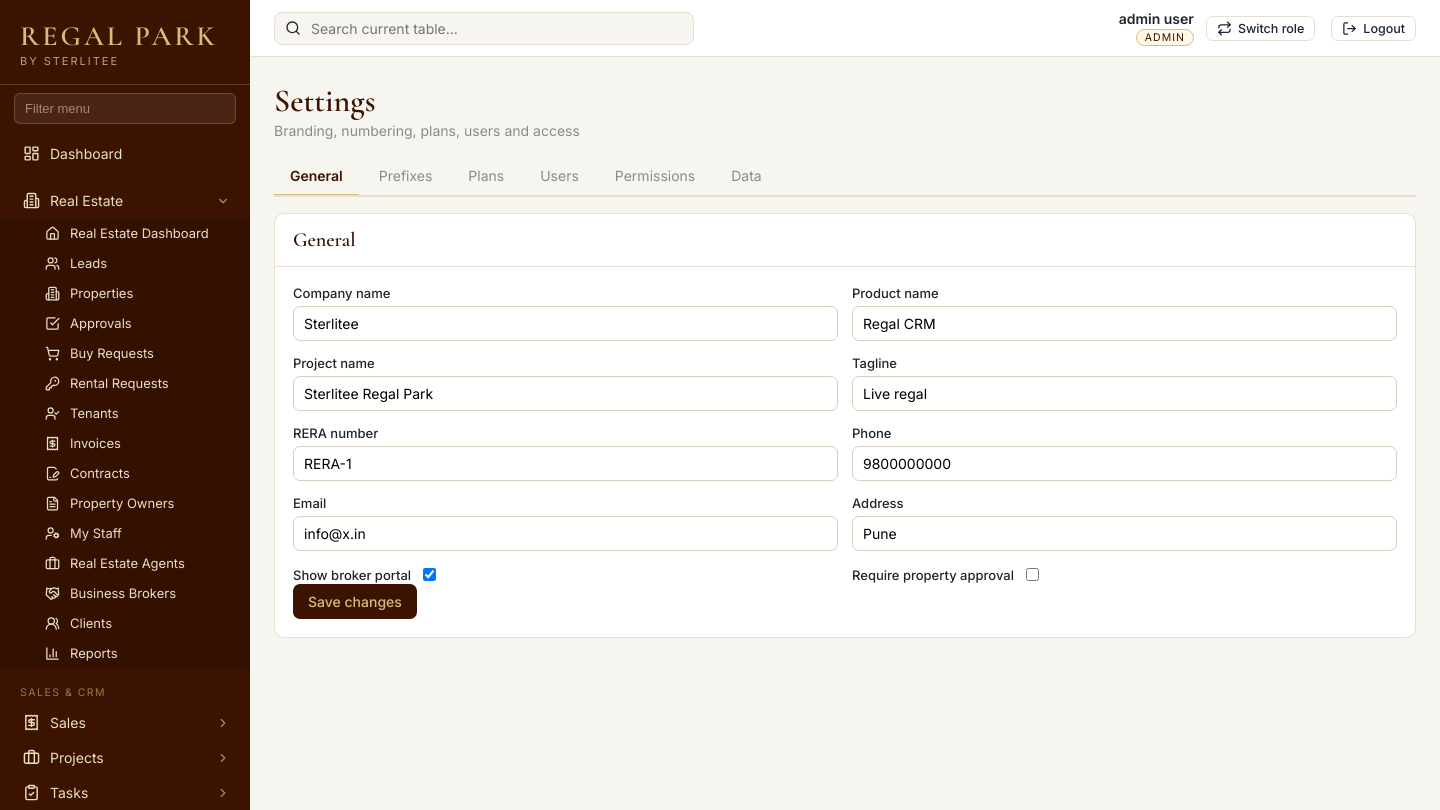
Test case: Plans tab › Add plan POSTs /plans with numeric fields
Expected: the button "Logout" is shown, 1331,16 -> 1416,40
Expected: the heading "Settings" is shown, 274,81 -> 376,120
Click the tab "Plans" at (486, 177), box 452,157 -> 520,197
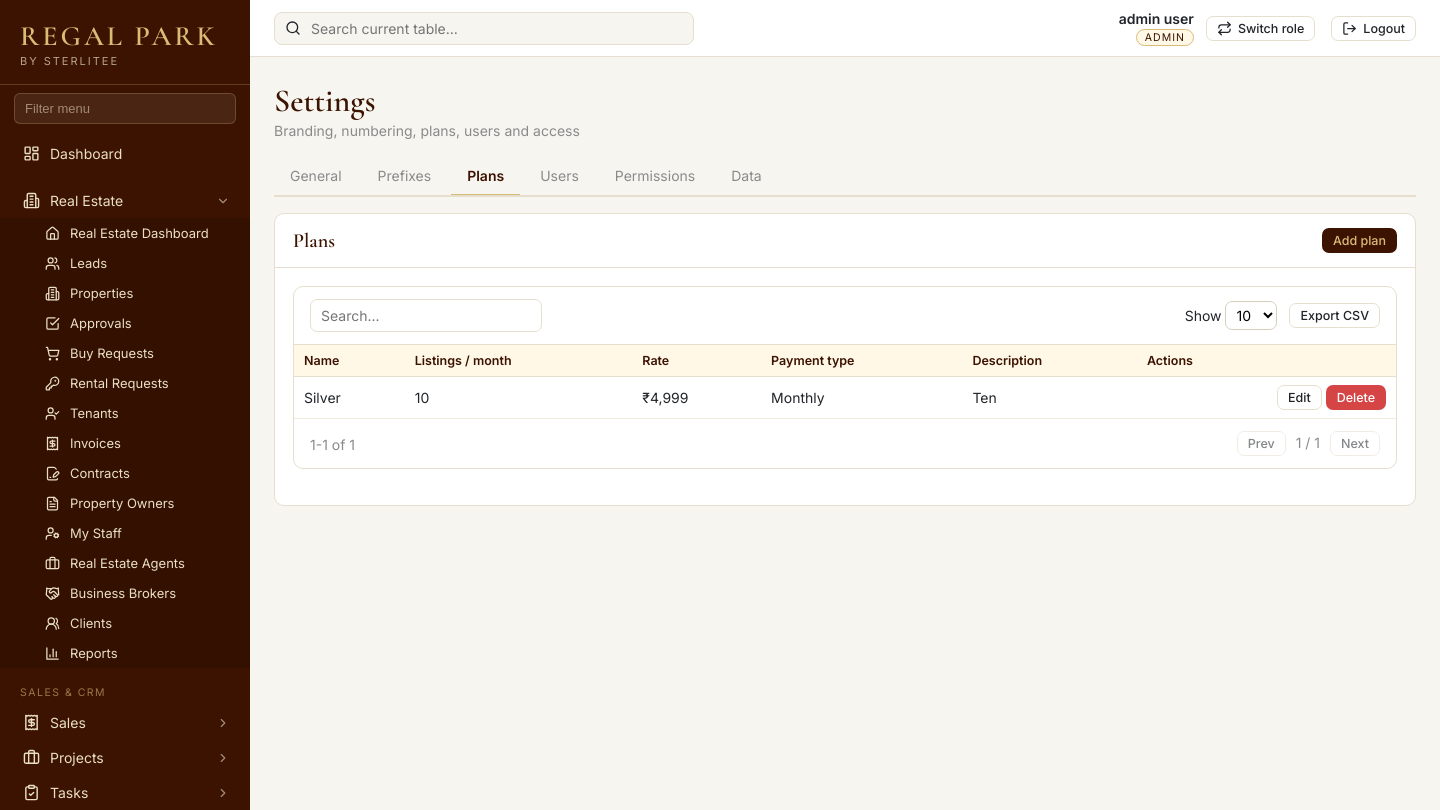
Result: the text "Silver" is shown at 294,376 -> 405,418
Click the button "Add plan" at (1359, 240), box 1322,228 -> 1397,253
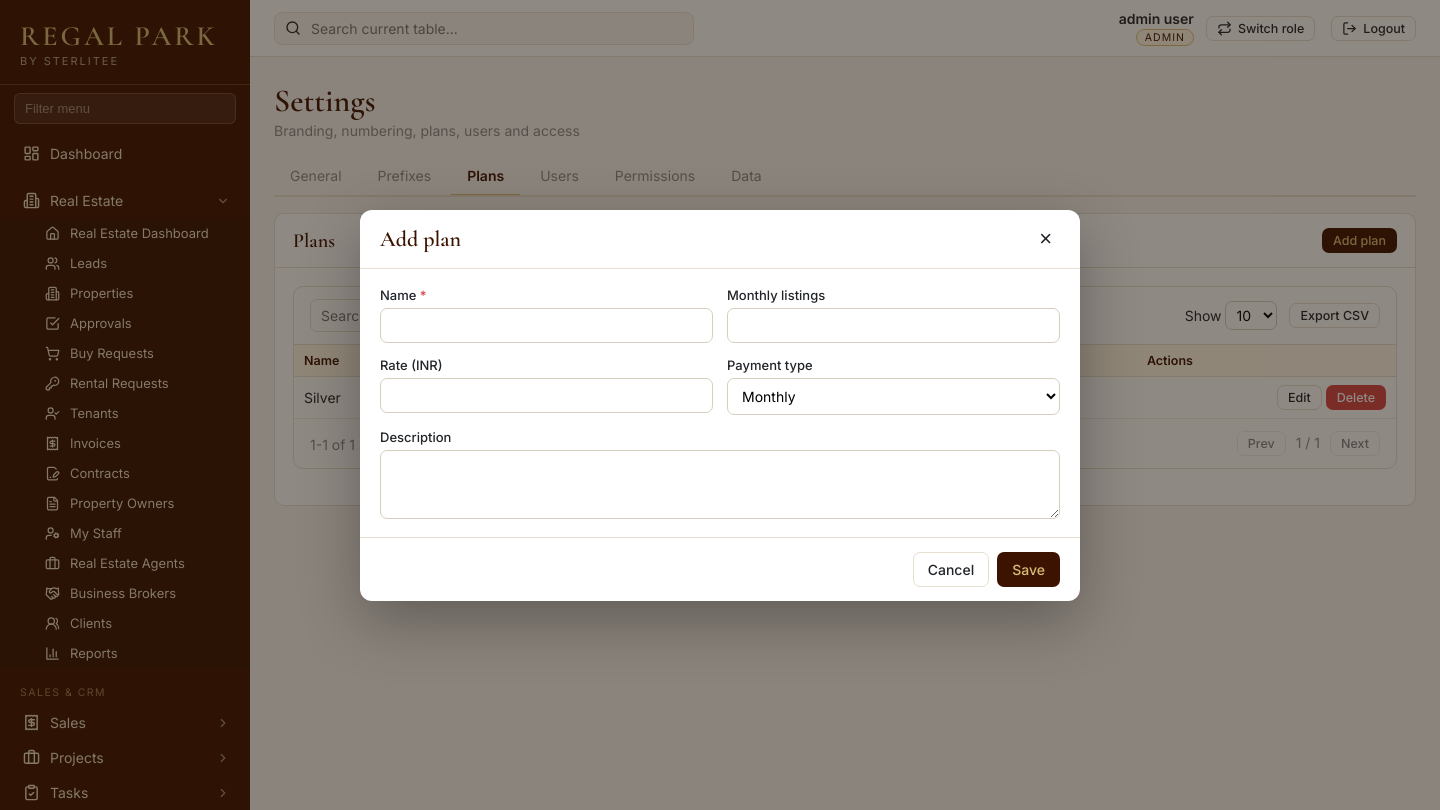
Type "Gold" into the field labelled "Name *" at (546, 325), box 380,308 -> 713,342
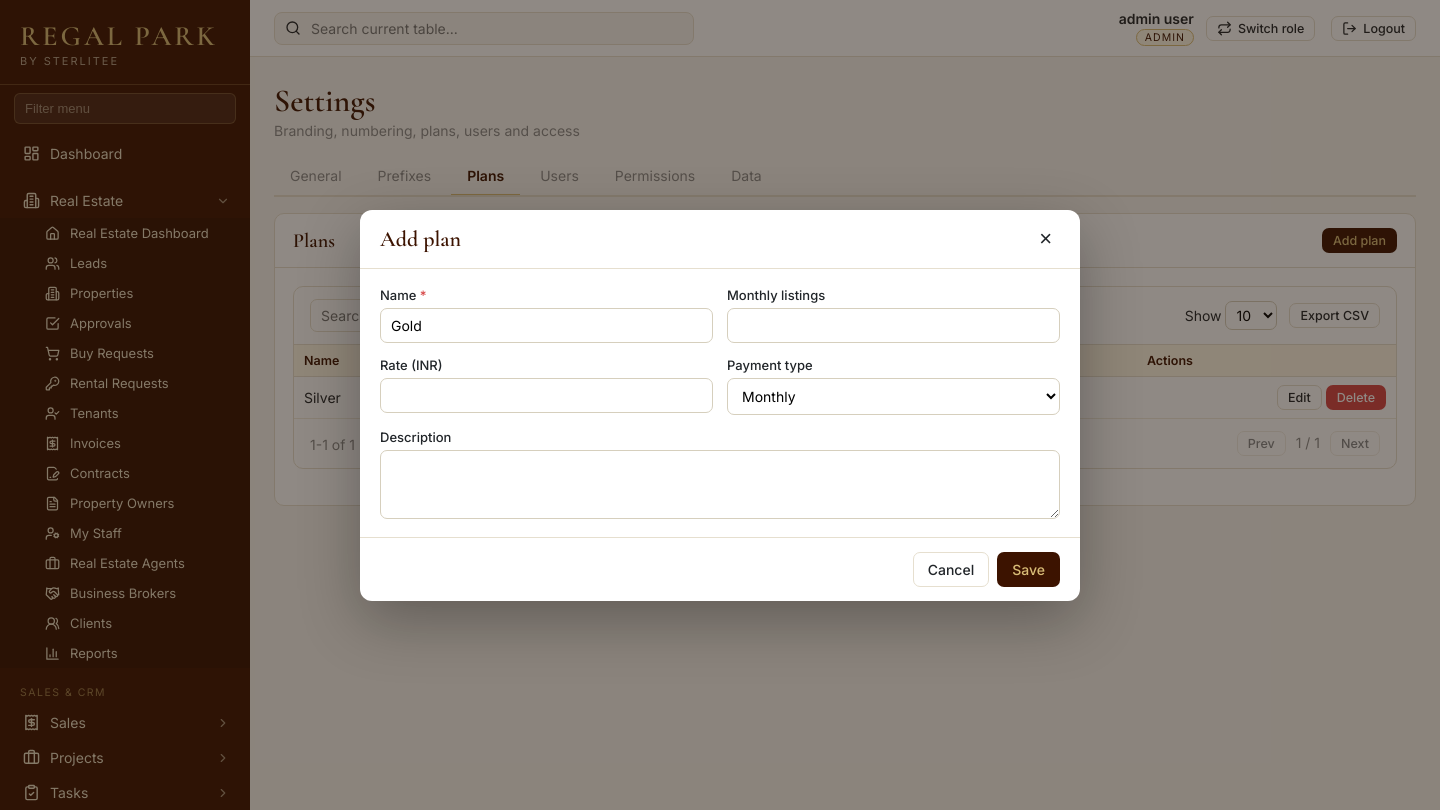
Type "25" into the number field labelled "Monthly listings" at (894, 325), box 727,308 -> 1060,342
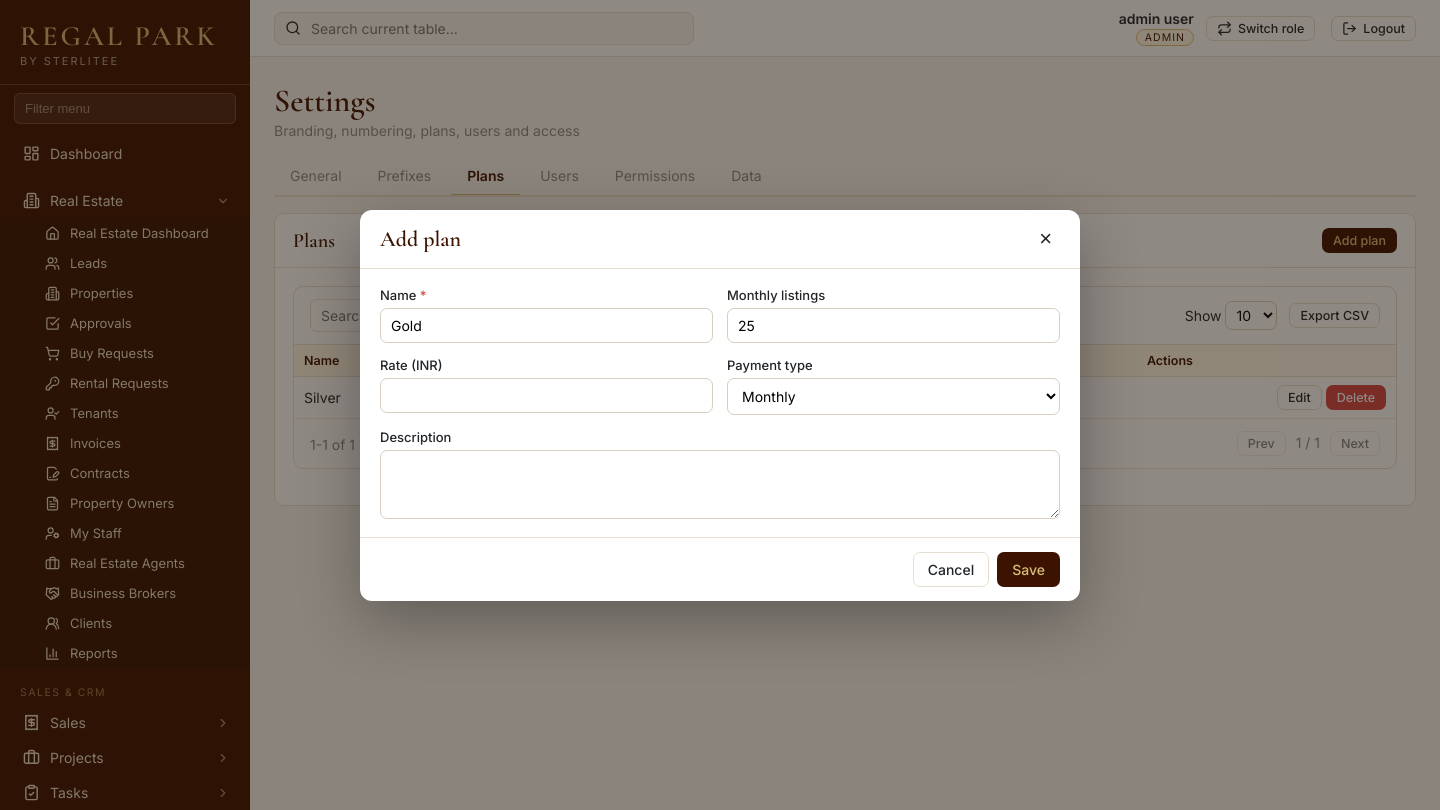
Type "9999" into the number field labelled "Rate (INR)" at (546, 395), box 380,378 -> 713,412
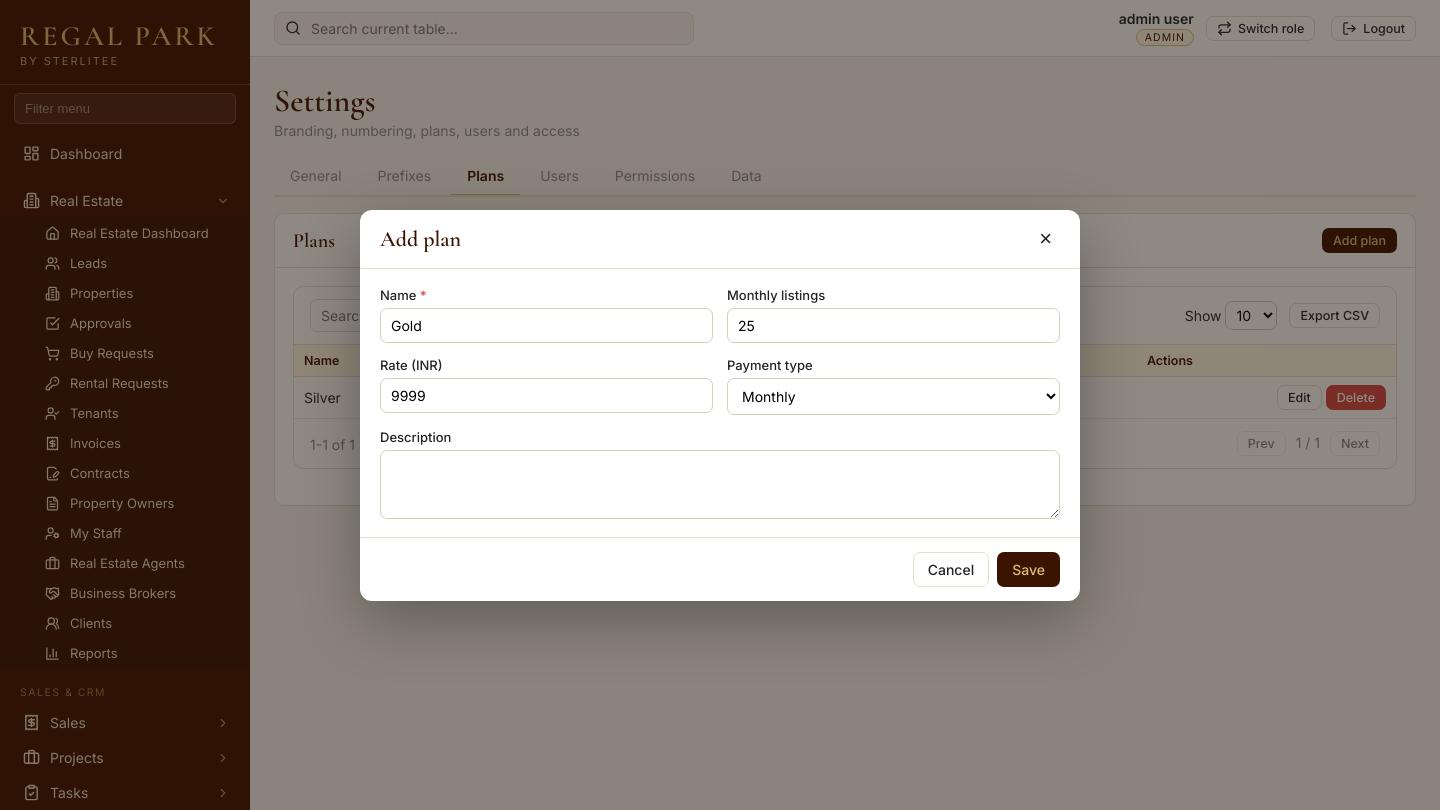
Submit the dialog with class "modal", box 360,210 -> 1080,600
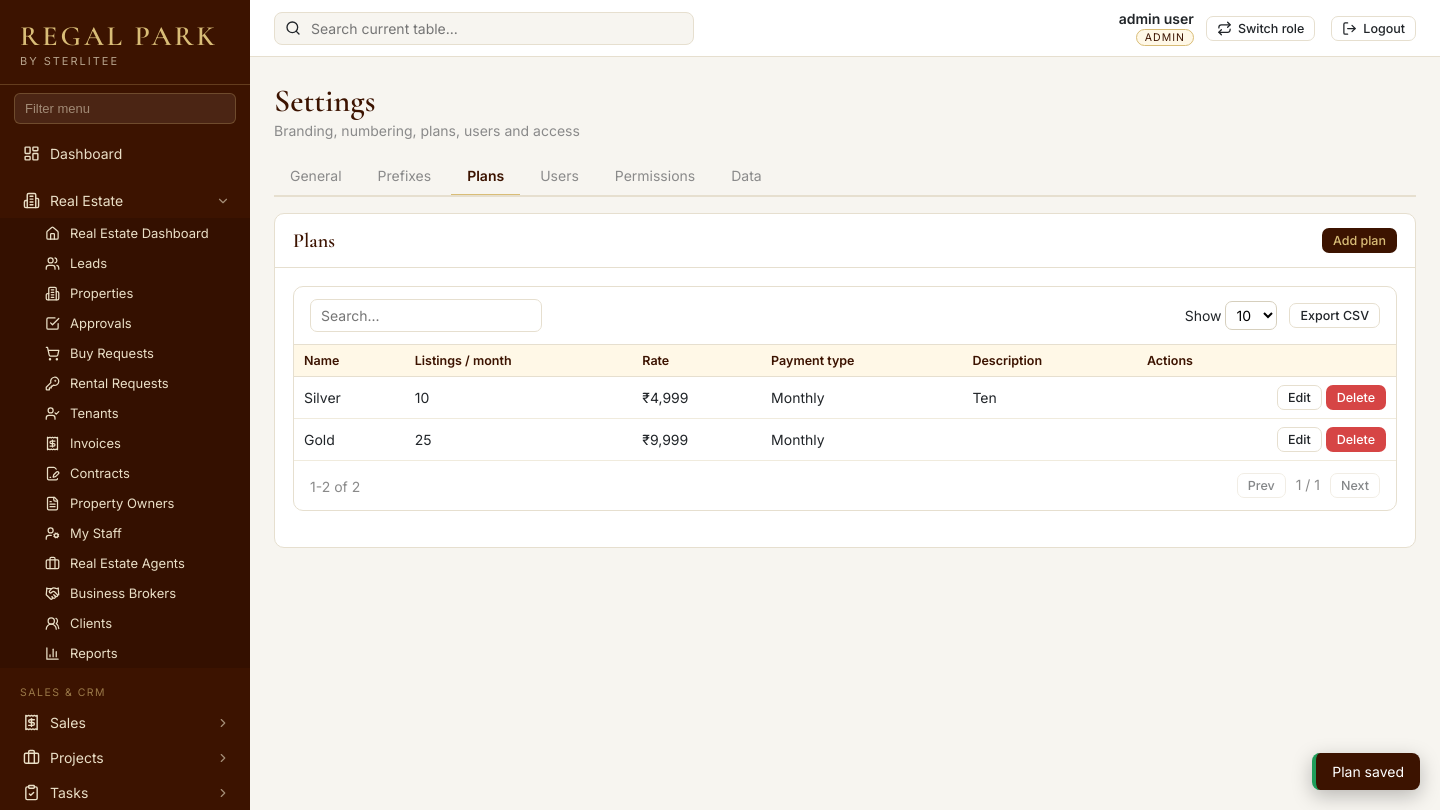
Result: the text "Gold" is shown at 294,418 -> 405,460
